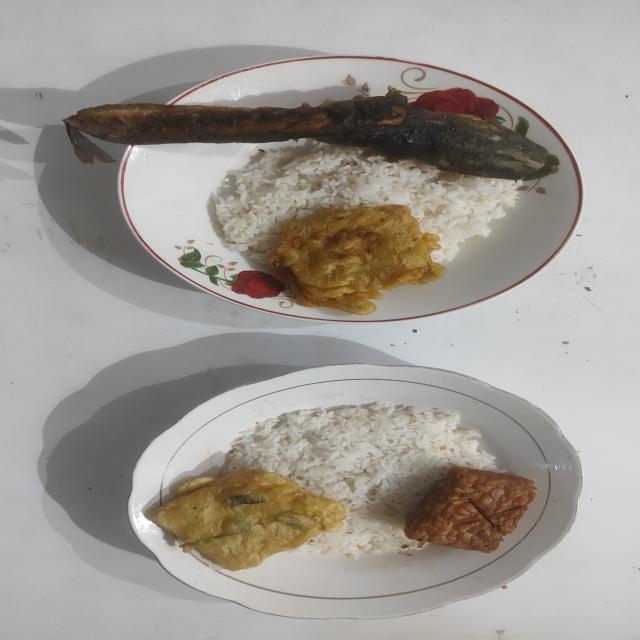nasi_putih: (221, 402, 509, 558), (211, 143, 519, 264)
tempe_goreng: (404, 467, 536, 553)
